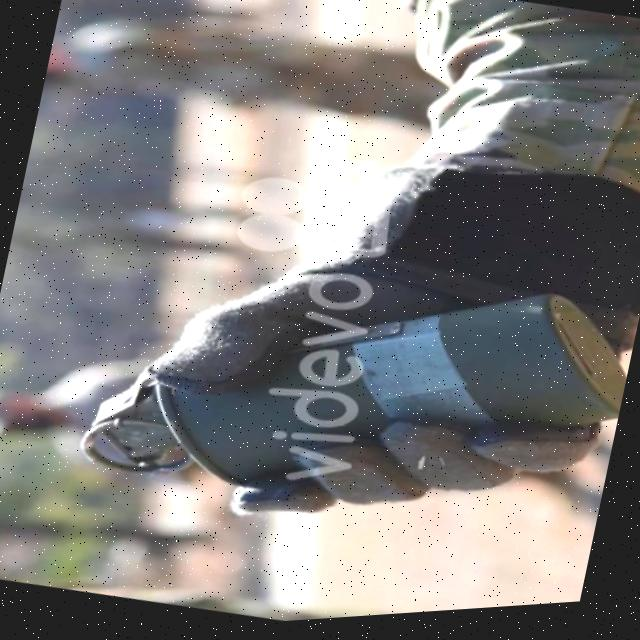grenade: (50, 194, 640, 598)
